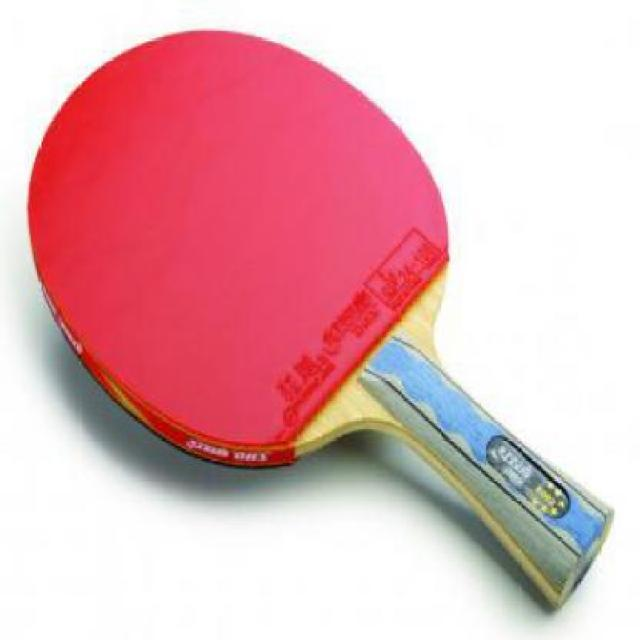table_tennis_racket: (25, 26, 460, 466)
